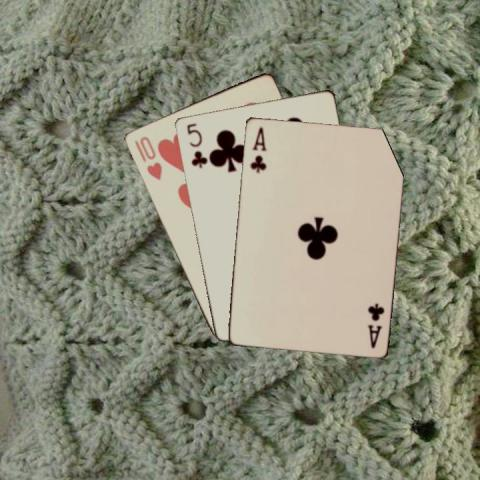10h: (131, 133, 163, 182)
5c: (183, 120, 207, 169)
Ac: (247, 124, 268, 174), (365, 300, 385, 349)
